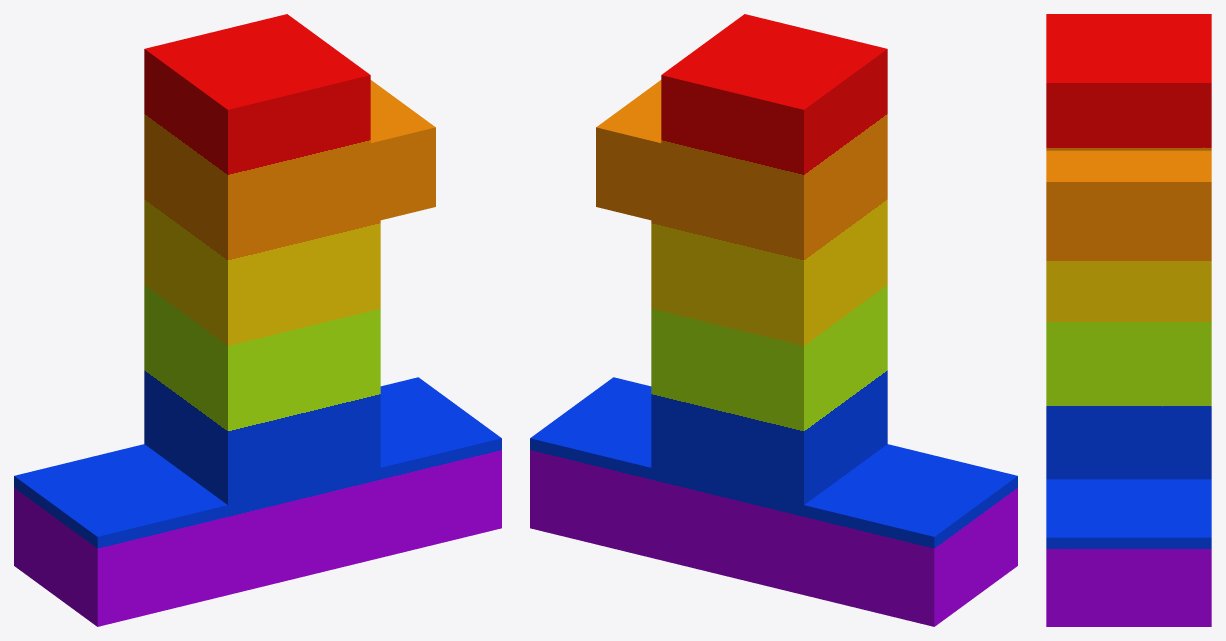
File: Number_01.fbx
3 renders of one model, left to right at view 1: azimuth 30°, elevation 25°; view 2: azimuth 150°, elevation 25°; view 3: azimuth 270°, elevation 25°, orthographic.
Visible parts, largest first — view 1: Number_01; view 2: Number_01; view 3: Number_01.
Boxes of the visible parts, x1,y1,x2,y2 form: Number_01: (14, 14, 501, 626); Number_01: (530, 14, 1017, 626); Number_01: (1046, 14, 1211, 626).
Size of the model in its own units: 68 by 77.97 by 24.3.
